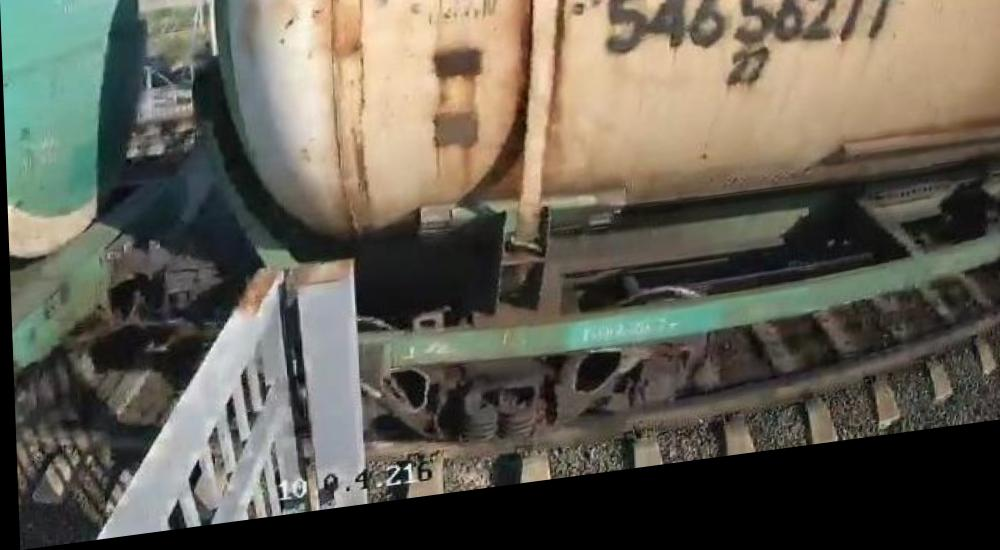Wagon-number: (599, 0, 900, 92)
